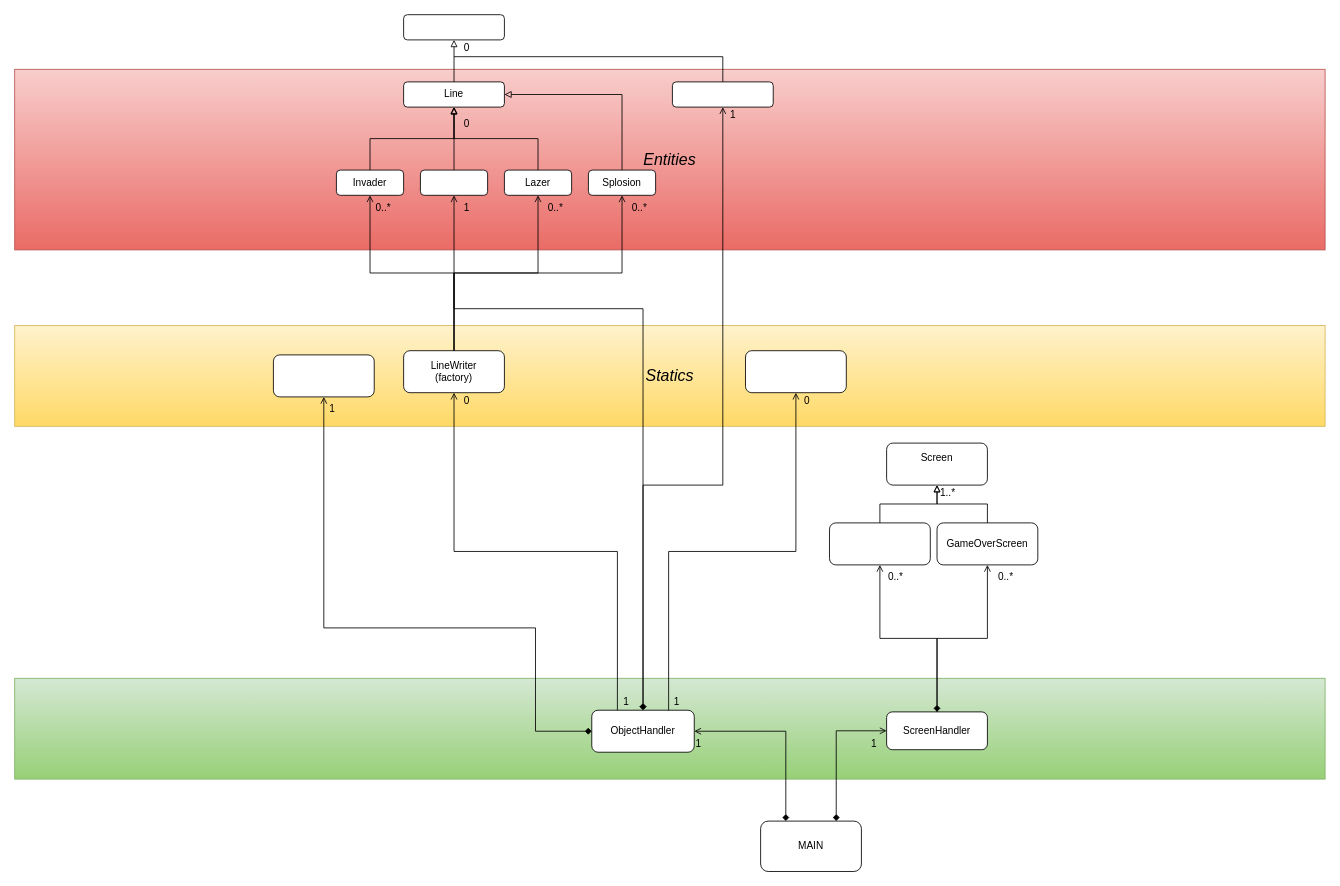
The diagram is 1340 pixels wide and 886 high, and some of its shapes have lost their labels. Each missing label, with the centre of its shape:
"AssetLoader" goes at [323,375].
"Commands" goes at [795,371].
"DrawableObject" goes at [453,27].
"Header" goes at [722,94].
"MainScreen" goes at [879,543].
"Player" goes at [454,182].
